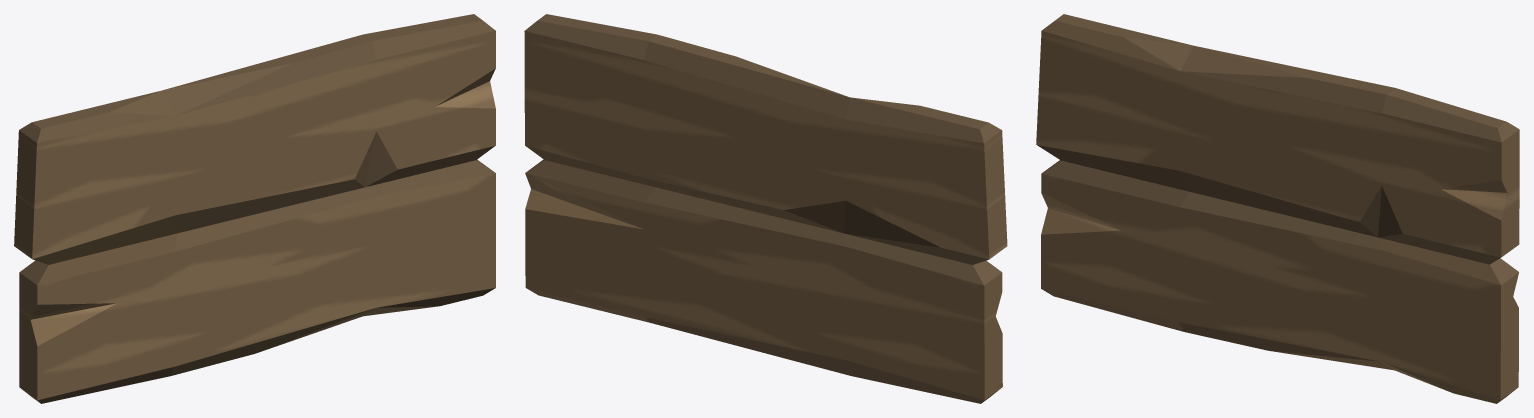
The model's file is SM_Prop_Sign_02.fbx.
The picture shows the model from 3 angles, left to right: view 1: azimuth 30°, elevation 25°; view 2: azimuth 150°, elevation 25°; view 3: azimuth 330°, elevation 25°; orthographic projection.
Parts seen in each view (by area): view 1: SM_Prop_Sign_02; view 2: SM_Prop_Sign_02; view 3: SM_Prop_Sign_02.
Boxes of the visible parts, x1,y1,x2,y2 form: SM_Prop_Sign_02: [14, 14, 495, 403]; SM_Prop_Sign_02: [524, 14, 1007, 403]; SM_Prop_Sign_02: [1036, 14, 1519, 403].
Bounding box in the file's own units: 93.46 × 54.96 × 6.51.
